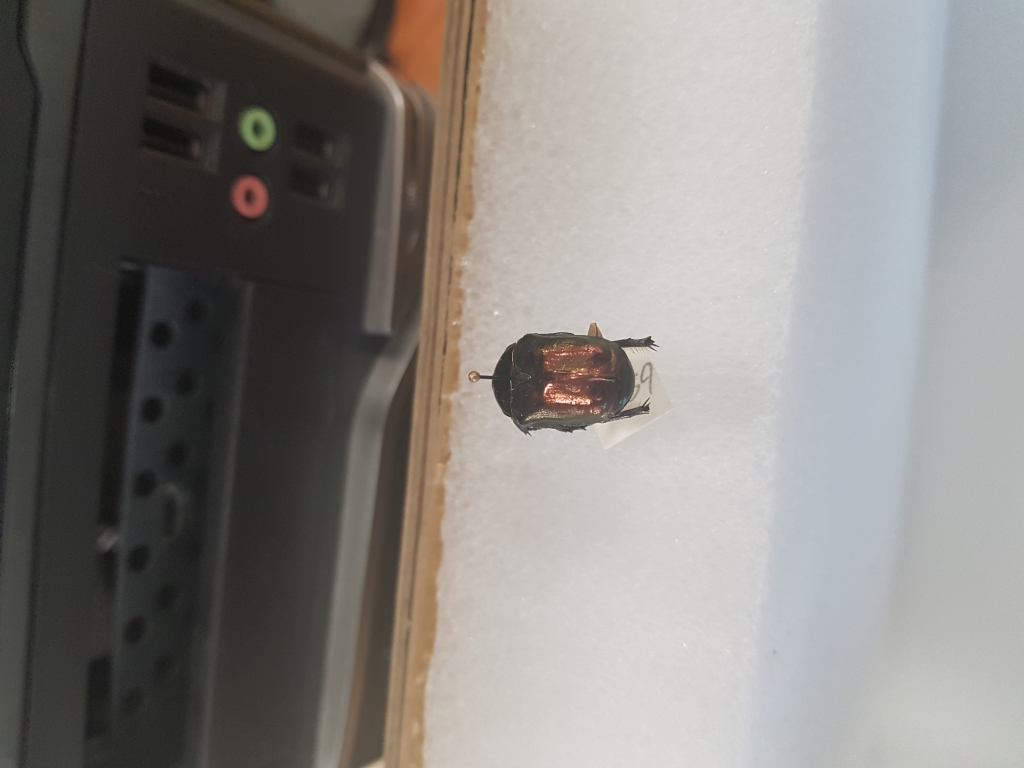Protaetia_cuprea_ignicollis: (492, 324, 661, 439)
